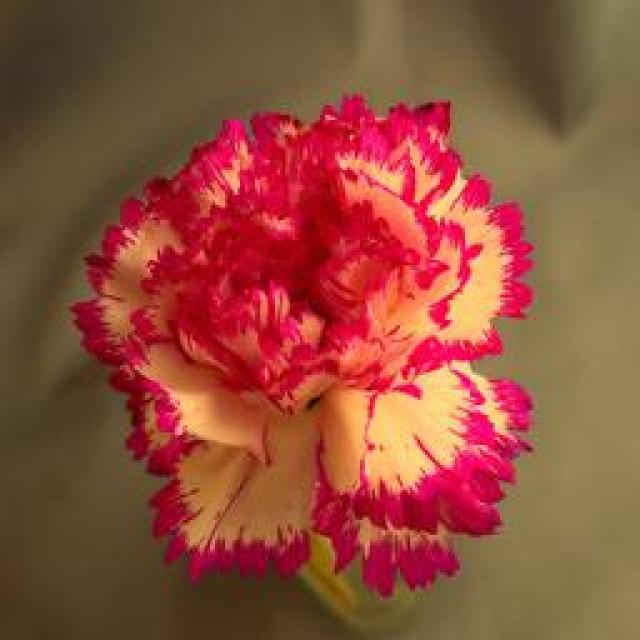carnation: (80, 90, 580, 567)
